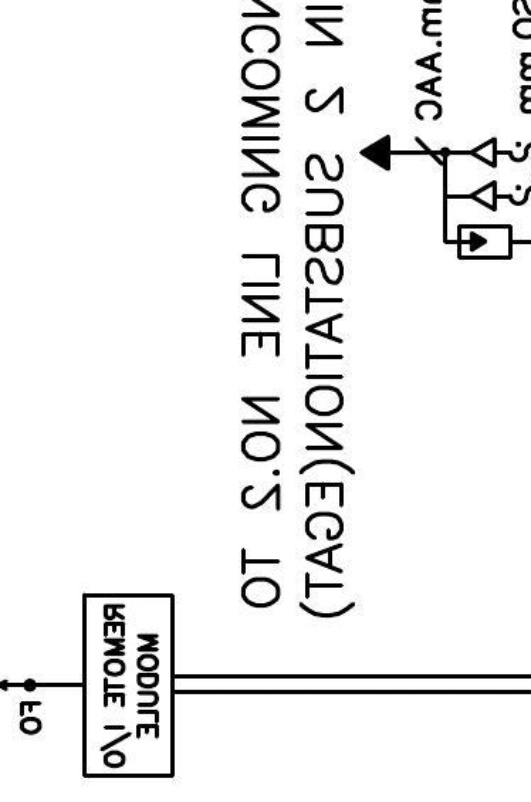remote_io_module: (82, 592, 175, 778)
terminator_double: (441, 135, 498, 214)
